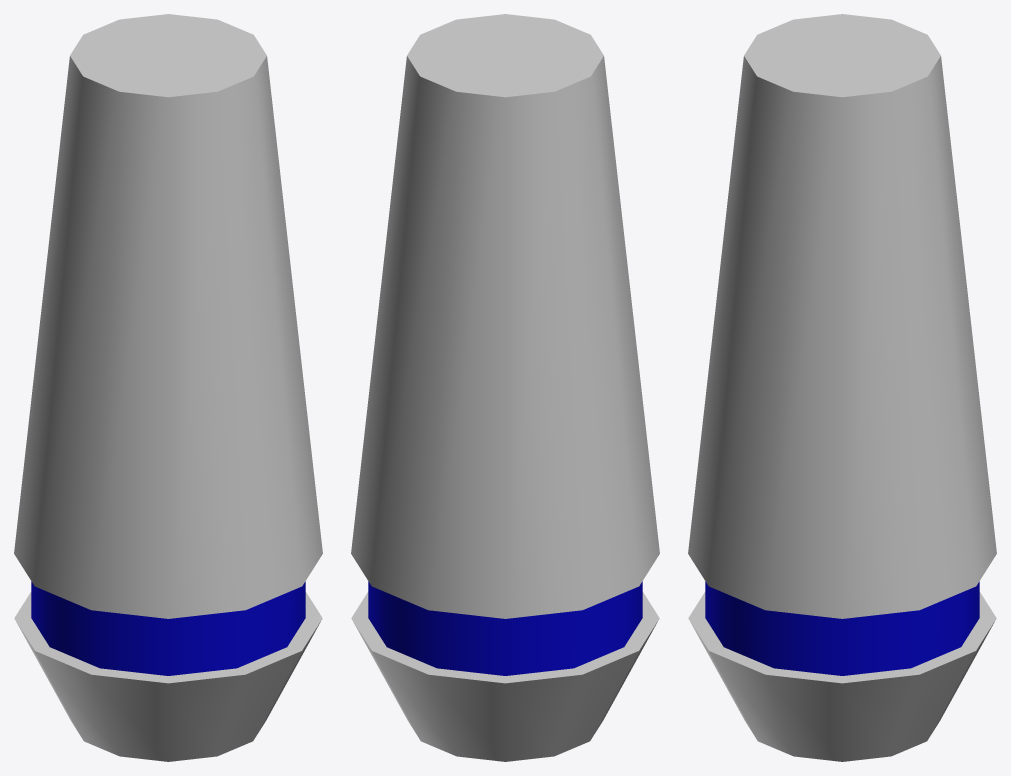
Rendered from Lamp.003.fbx.
3 views of the same model, side by side, from view 1: azimuth 30°, elevation 25°; view 2: azimuth 150°, elevation 25°; view 3: azimuth 270°, elevation 25° (orthographic).
Visible parts, largest first — view 1: Lamp.003; view 2: Lamp.003; view 3: Lamp.003.
Boxes of the visible parts, x1,y1,x2,y2 form: Lamp.003: (14, 14, 322, 761); Lamp.003: (351, 14, 659, 761); Lamp.003: (688, 14, 996, 761).
Size of the model in its own units: 0.1631 by 0.3873 by 0.1631.
